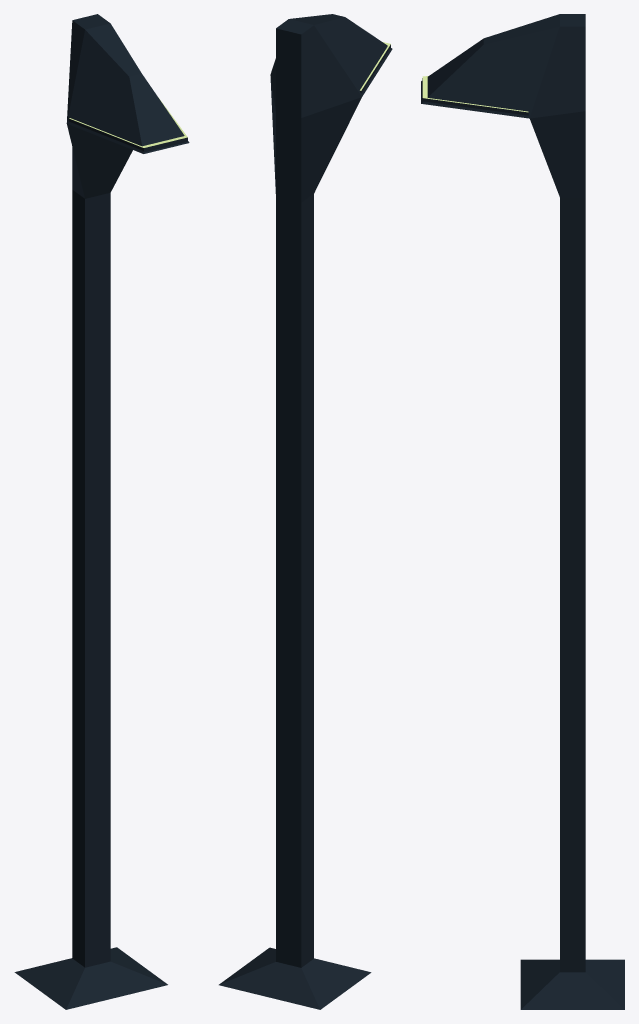
The model's file is street_light.fbx.
3 views of the same model, side by side, from view 1: azimuth 30°, elevation 25°; view 2: azimuth 150°, elevation 25°; view 3: azimuth 270°, elevation 25° (orthographic).
Visible parts, largest first — view 1: Cube; view 2: Cube; view 3: Cube.
Part boxes in pixels (x1,y1,x2,y2): Cube: [14, 14, 189, 1009]; Cube: [219, 14, 392, 1009]; Cube: [421, 14, 624, 1009].
Size of the model in its own units: 131 by 1170 by 224.
